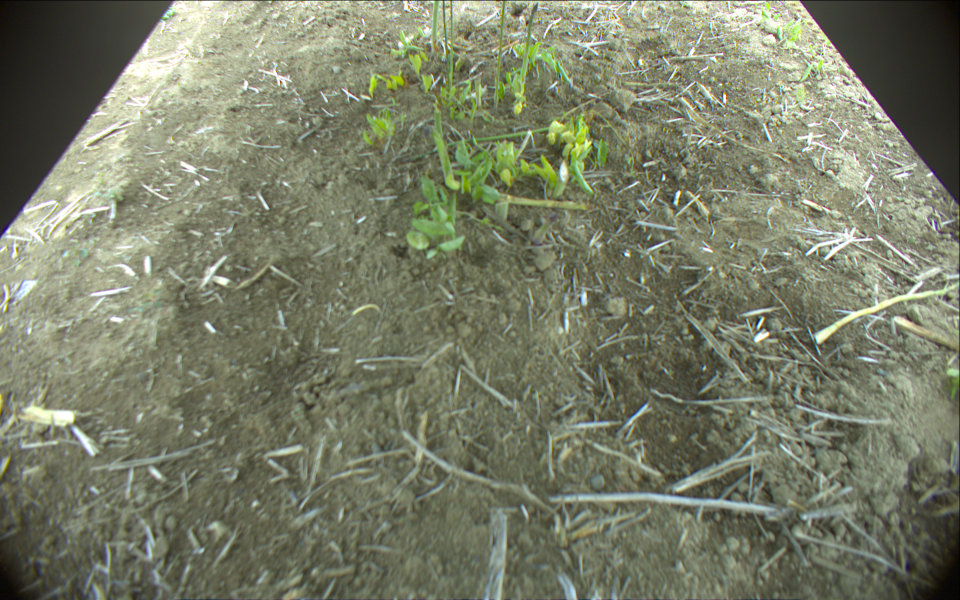aspa: (814, 274, 959, 345), (445, 119, 578, 148), (429, 103, 455, 192), (519, 1, 539, 96), (494, 1, 508, 102), (447, 1, 459, 99), (429, 1, 438, 50), (443, 1, 450, 56)
